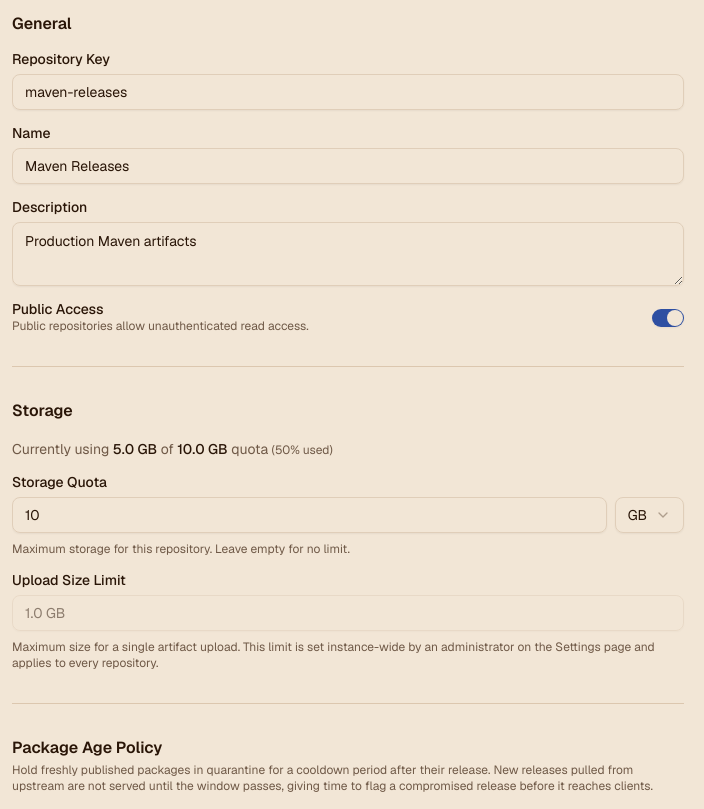
Test: RepoSettingsTab - General Section › strips invalid characters from key input
Step 1. Replace the text in the field labelled "Repository Key" with "My Repo!" → coordinates (348, 92), box [12,74,684,110]
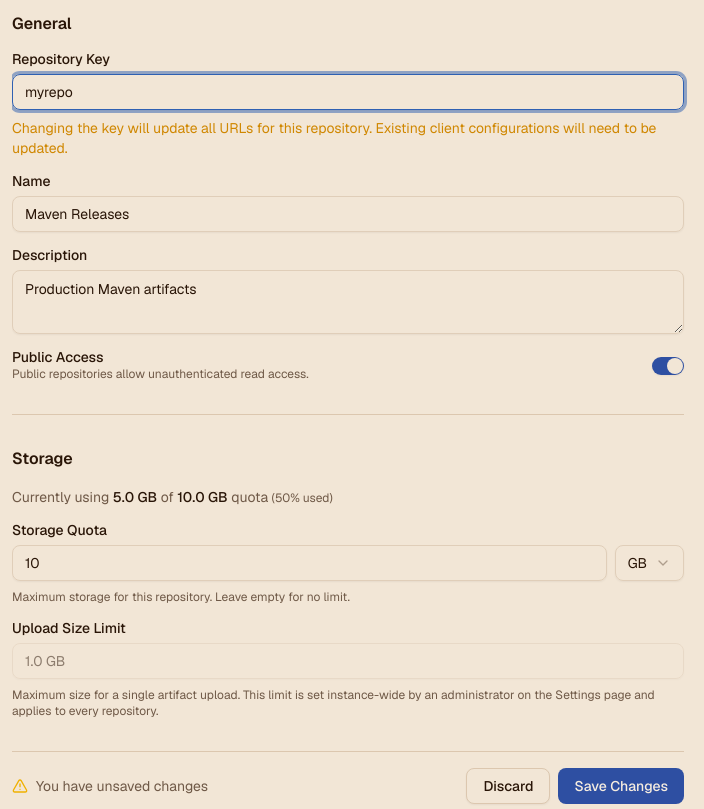
Now the field labelled "Repository Key" holds "myrepo", box [12,74,684,110]
